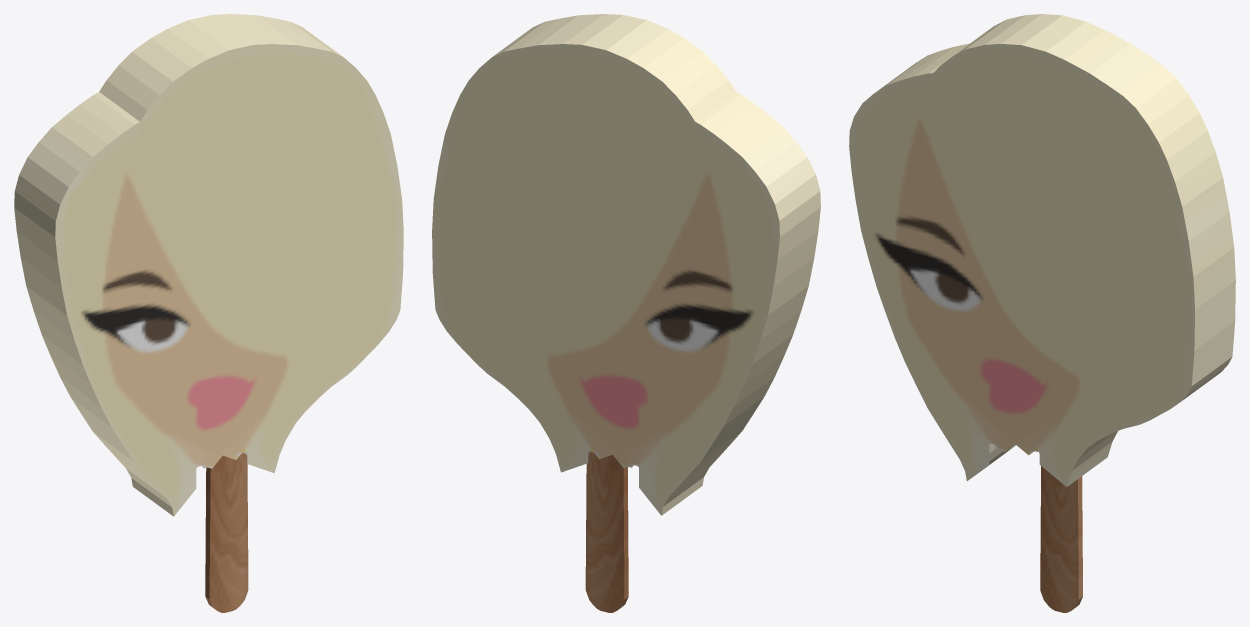
File: heal.fbx
The picture shows the model from 3 angles, left to right: view 1: azimuth 30°, elevation 25°; view 2: azimuth 150°, elevation 25°; view 3: azimuth 330°, elevation 25°; orthographic projection.
Parts seen in each view (by area): view 1: heal; view 2: heal; view 3: heal.
Part boxes in pixels (<box>): heal: <box>14,14,403,612</box>; heal: <box>432,14,820,612</box>; heal: <box>849,14,1235,612</box>.
Bounding box in the file's own units: 122 × 195 × 25.
Materials: 1 (1 with a texture image).
